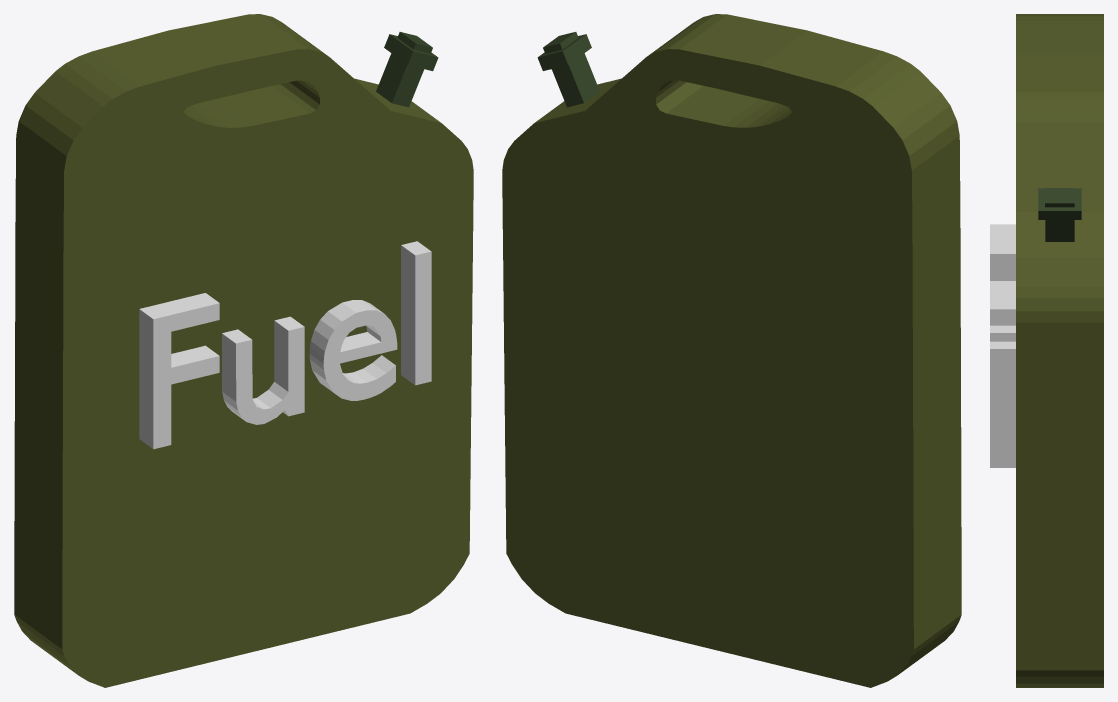
Rendered from FuelCan.fbx.
3 renders of one model, left to right at view 1: azimuth 30°, elevation 25°; view 2: azimuth 150°, elevation 25°; view 3: azimuth 270°, elevation 25°, orthographic. The views are drawn at different scales.
Visible parts, largest first — view 1: Plane, Text; view 2: Plane; view 3: Plane, Text.
Boxes of the visible parts, box(x1,y1,x2,y2) form: Plane: box(14, 14, 473, 687); Text: box(139, 241, 431, 449); Plane: box(502, 14, 961, 687); Plane: box(1016, 14, 1103, 687); Text: box(990, 224, 1015, 467).
Size of the model in its own units: 181 by 250 by 47.2.
